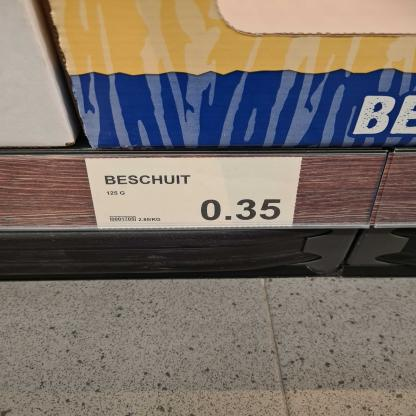prtg: (83, 158, 305, 229)
